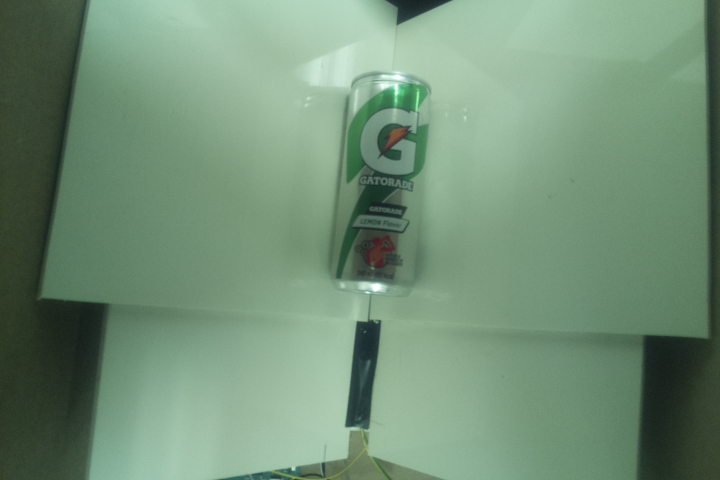can: (325, 66, 436, 295)
